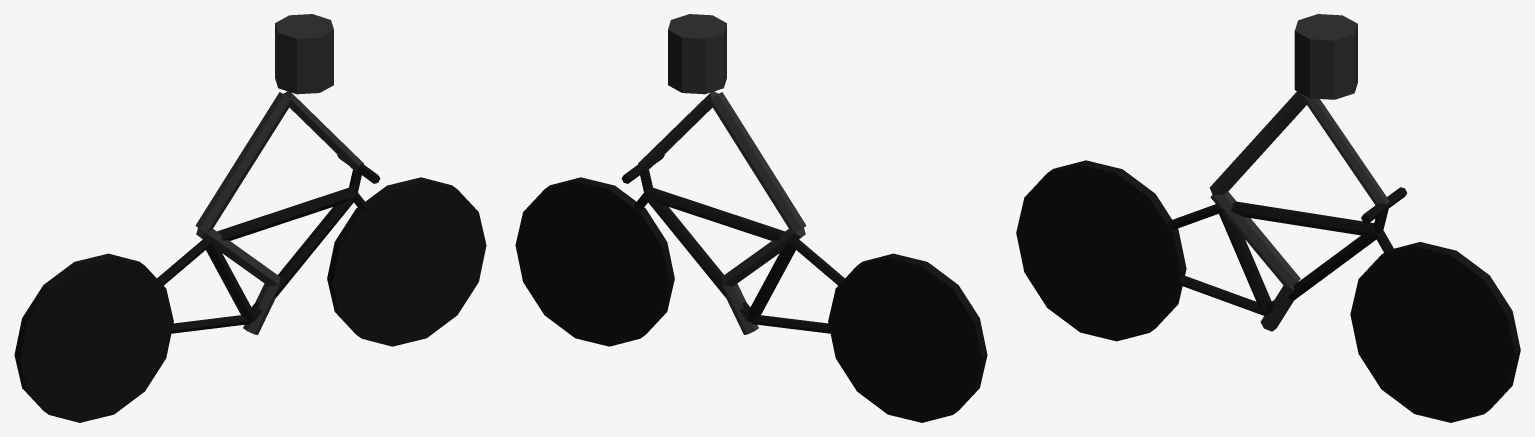
The model's file is bicycle-stick.glb.
The picture shows the model from 3 angles, left to right: view 1: azimuth 30°, elevation 25°; view 2: azimuth 150°, elevation 25°; view 3: azimuth 330°, elevation 25°; orthographic projection. The views are drawn at different scales.
Visible parts, largest first — view 1: BicycleStick; view 2: BicycleStick; view 3: BicycleStick.
Boxes of the visible parts, x1,y1,x2,y2 form: BicycleStick: [14, 14, 486, 422]; BicycleStick: [515, 14, 987, 422]; BicycleStick: [1016, 14, 1520, 422].
Bounding box in the file's own units: 0.388 × 0.2694 × 0.05.
1 material, 1 textured.
